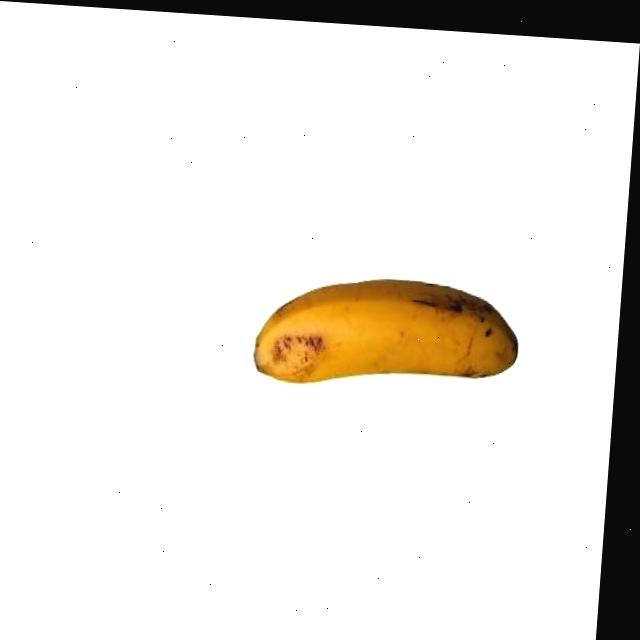banana: (245, 266, 525, 397)
